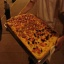olive: (44, 34, 52, 41), (36, 28, 44, 34), (31, 39, 36, 45), (36, 41, 41, 44)
pizza: (8, 13, 55, 55)
